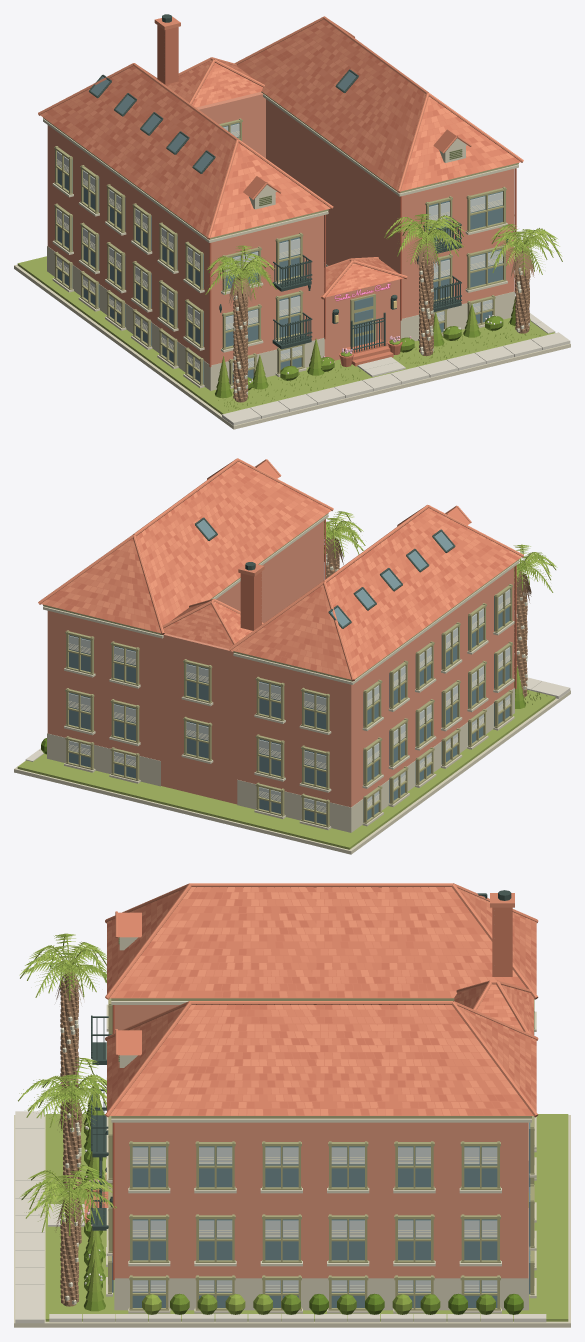
File: santa-monica-court.glb
3 views of the same model, one above another, from view 1: azimuth 30°, elevation 25°; view 2: azimuth 150°, elevation 25°; view 3: azimuth 270°, elevation 25° (orthographic). The views are drawn at different scales.
Parts seen in each view (by area): view 1: Coral stucco, Terracotta tile 2, Olive gold window frames, Warm limestone, Terracotta tile 5, Terracotta tile 3, Smoky blue glass, Lawn, Terracotta tile 0, Terracotta tile 4, Terracotta tile 1, Terracotta tile 6 (+9 smaller); view 2: Coral stucco, Terracotta tile 2, Olive gold window frames, Warm limestone, Terracotta tile 5, Smoky blue glass, Lawn, Terracotta tile 3, Terracotta tile 1, Terracotta tile 0, Terracotta tile 4, Ivory blinds (+8 smaller); view 3: Coral stucco, Terracotta tile 2, Terracotta tile 5, Warm limestone, Olive gold window frames, Terracotta tile 3, Terracotta tile 6, Terracotta tile 4, Terracotta tile 1, Lawn, Smoky blue glass, Cream sidewalk (+10 smaller).
Boxes of the visible parts, <box> form: Coral stucco: <box>47,92,514,365</box>; Terracotta tile 2: <box>40,19,520,297</box>; Olive gold window frames: <box>43,91,518,385</box>; Warm limestone: <box>14,94,570,429</box>; Terracotta tile 5: <box>38,16,523,299</box>; Terracotta tile 3: <box>43,25,501,358</box>; Smoky blue glass: <box>57,71,502,383</box>; Lawn: <box>17,256,554,414</box>; Terracotta tile 0: <box>53,22,520,367</box>; Terracotta tile 4: <box>50,22,503,366</box>; Terracotta tile 1: <box>46,31,515,296</box>; Terracotta tile 6: <box>40,24,514,293</box>; Coral stucco: <box>47,520,514,807</box>; Terracotta tile 2: <box>41,463,521,679</box>; Olive gold window frames: <box>43,513,518,827</box>; Warm limestone: <box>14,514,570,854</box>; Terracotta tile 5: <box>38,458,523,681</box>; Smoky blue glass: <box>69,519,509,824</box>; Lawn: <box>17,690,555,849</box>; Terracotta tile 3: <box>46,461,504,678</box>; Terracotta tile 1: <box>47,463,509,672</box>; Terracotta tile 0: <box>52,465,519,688</box>; Terracotta tile 4: <box>58,467,512,679</box>; Ivory blinds: <box>68,589,510,811</box>; Coral stucco: <box>115,1005,528,1278</box>; Terracotta tile 2: <box>107,887,536,1115</box>; Terracotta tile 5: <box>105,883,538,1117</box>; Warm limestone: <box>14,937,570,1327</box>; Olive gold window frames: <box>108,998,534,1310</box>; Terracotta tile 3: <box>84,887,536,1220</box>; Terracotta tile 6: <box>107,887,536,1115</box>; Terracotta tile 4: <box>84,887,536,1225</box>; Terracotta tile 1: <box>107,887,536,1115</box>; Lawn: <box>45,1114,568,1321</box>; Smoky blue glass: <box>112,895,530,1307</box>; Cream sidewalk: <box>15,1111,546,1323</box>.
Size of the model in its own units: 19.46 by 12.68 by 21.
27 materials, 1 textured.
